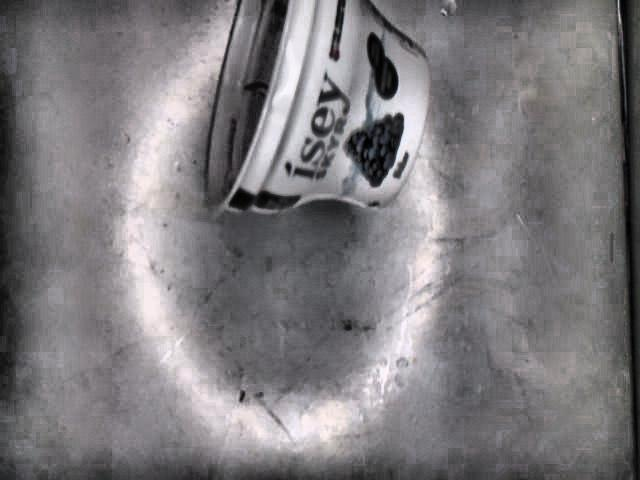Plastic: (202, 0, 432, 216)
